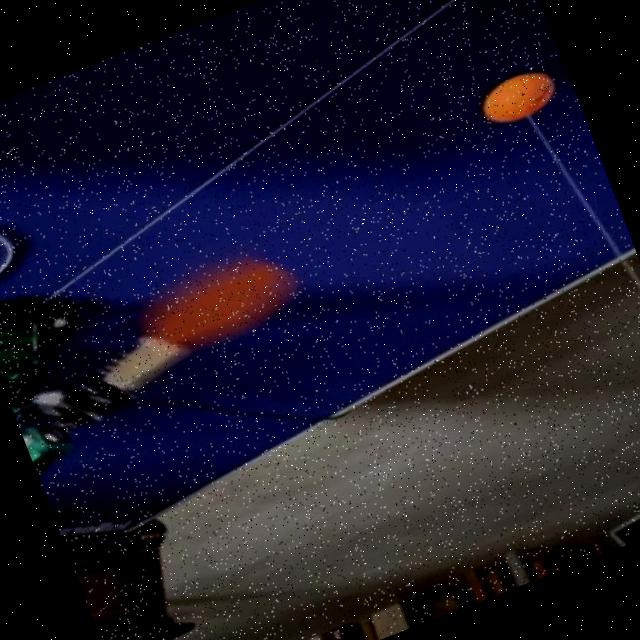ping-pong-ball: (474, 64, 564, 132)
